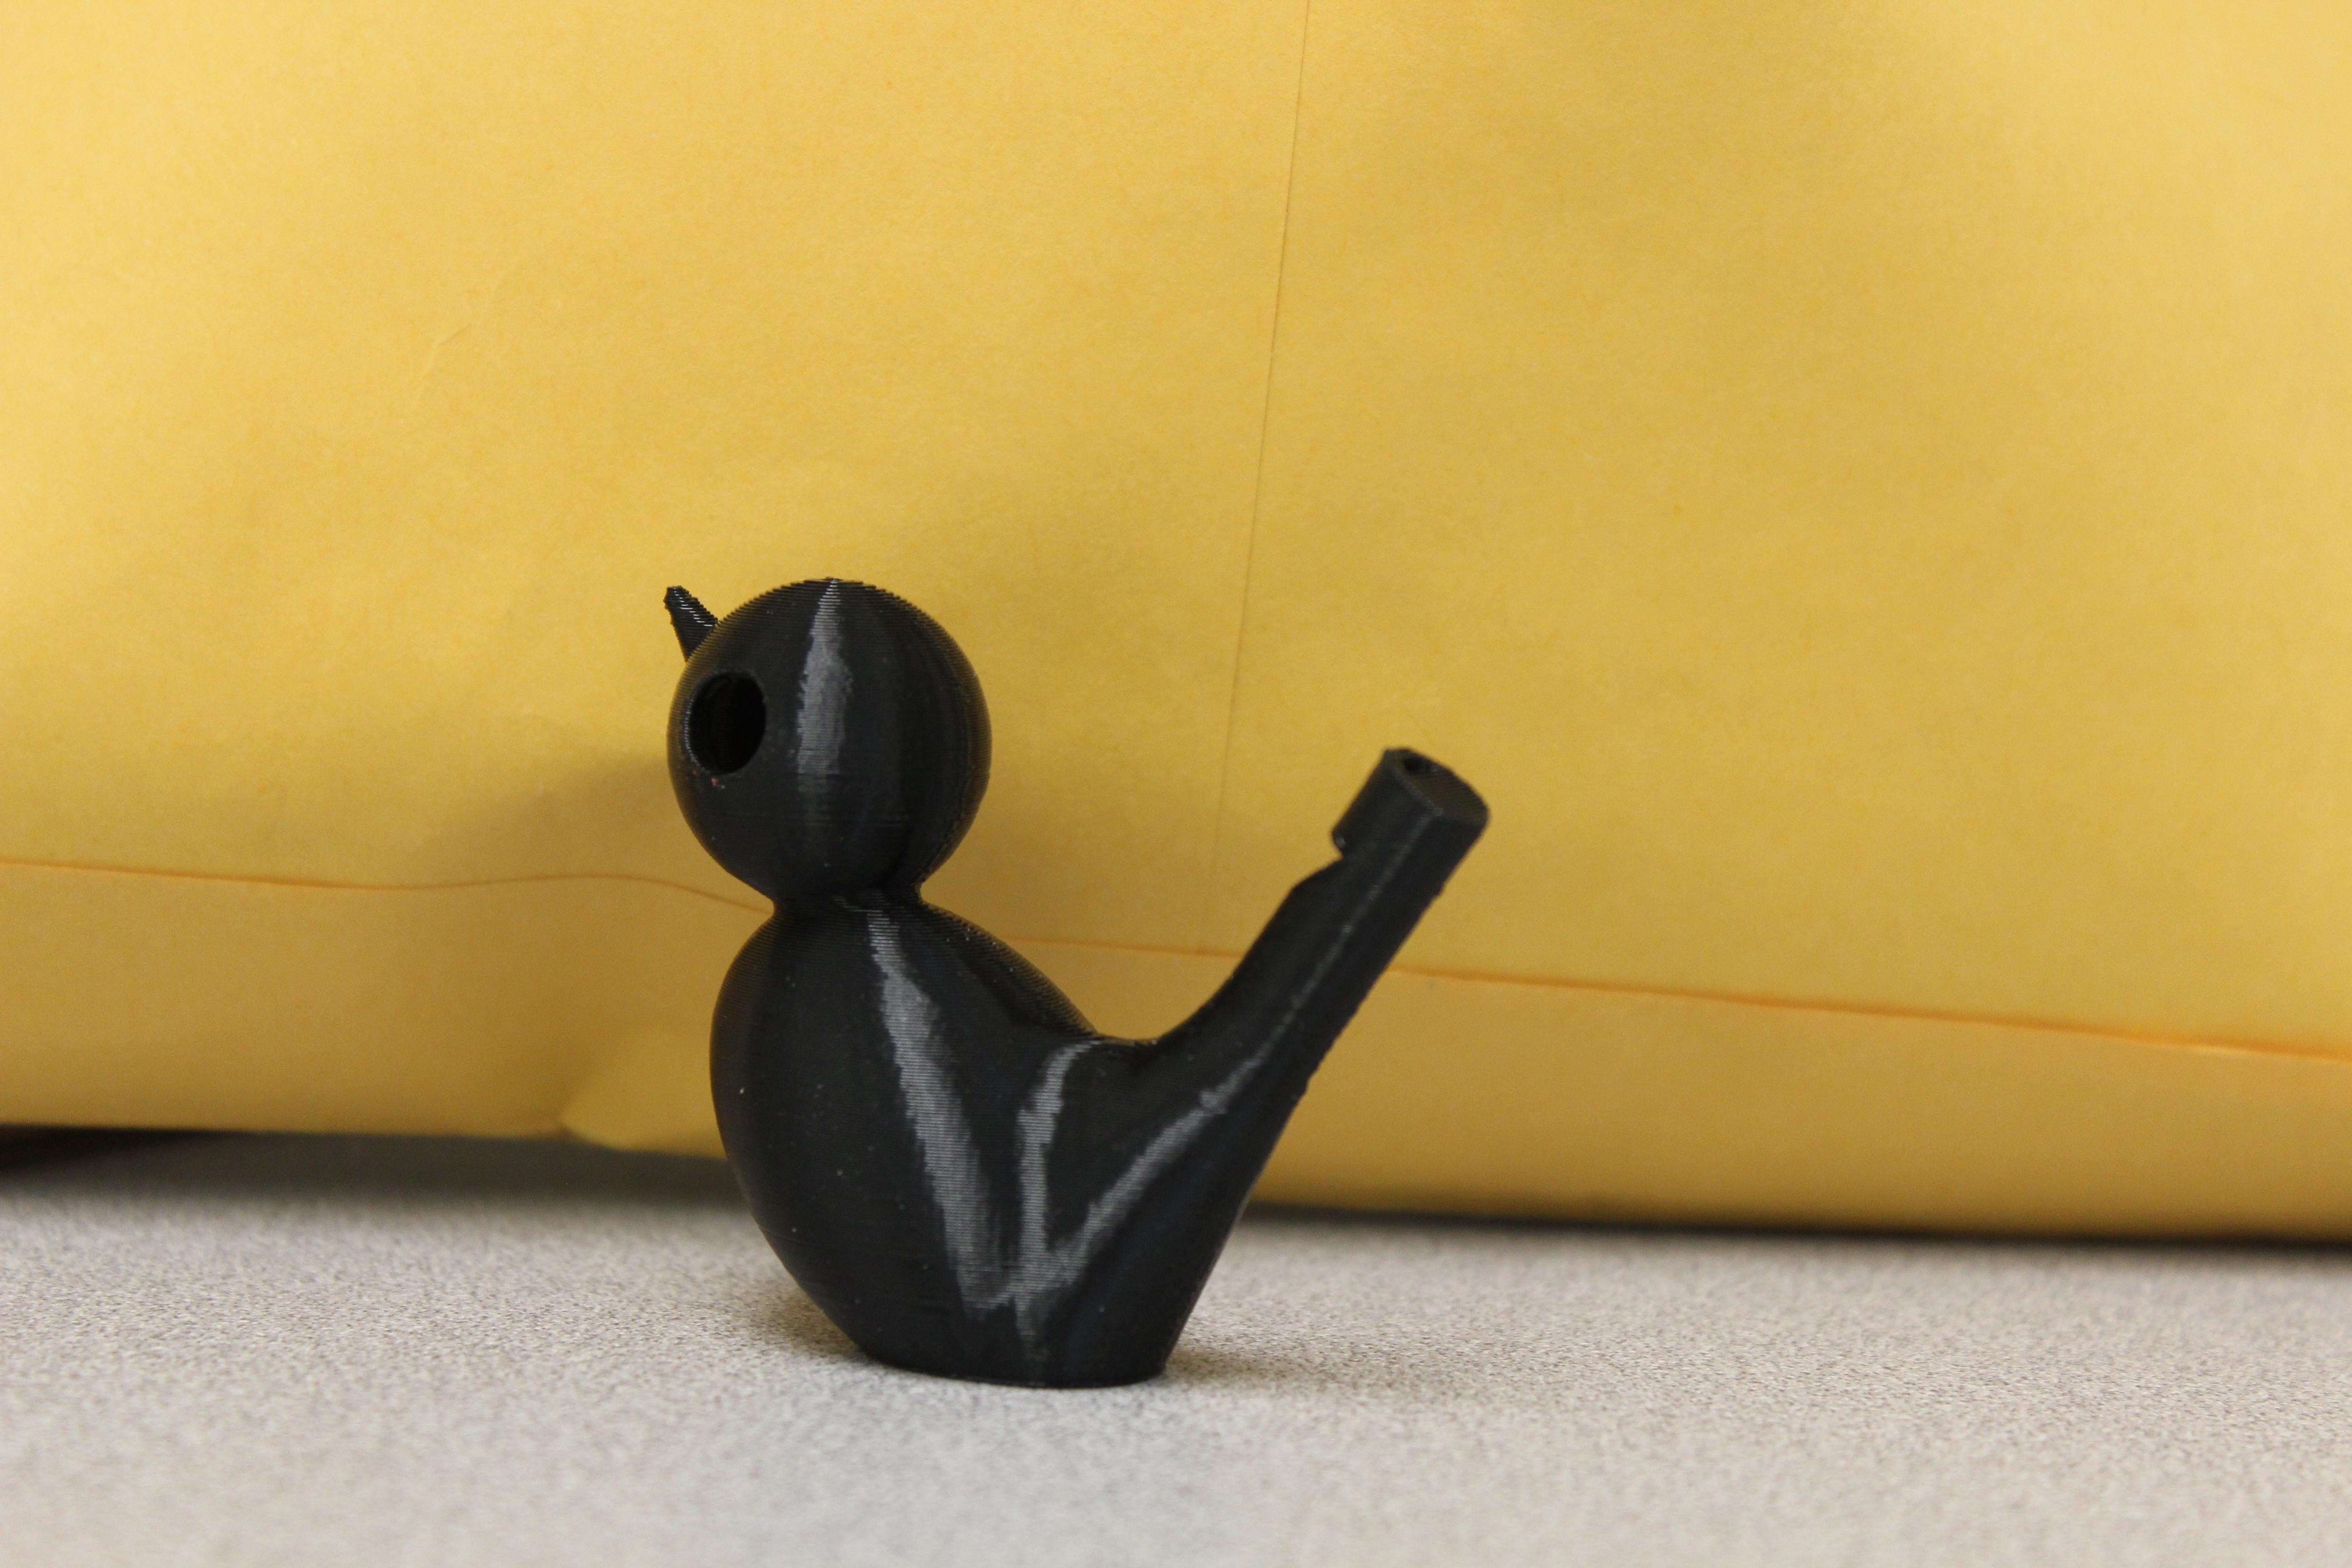birdCall: (563, 525, 1577, 1473)
